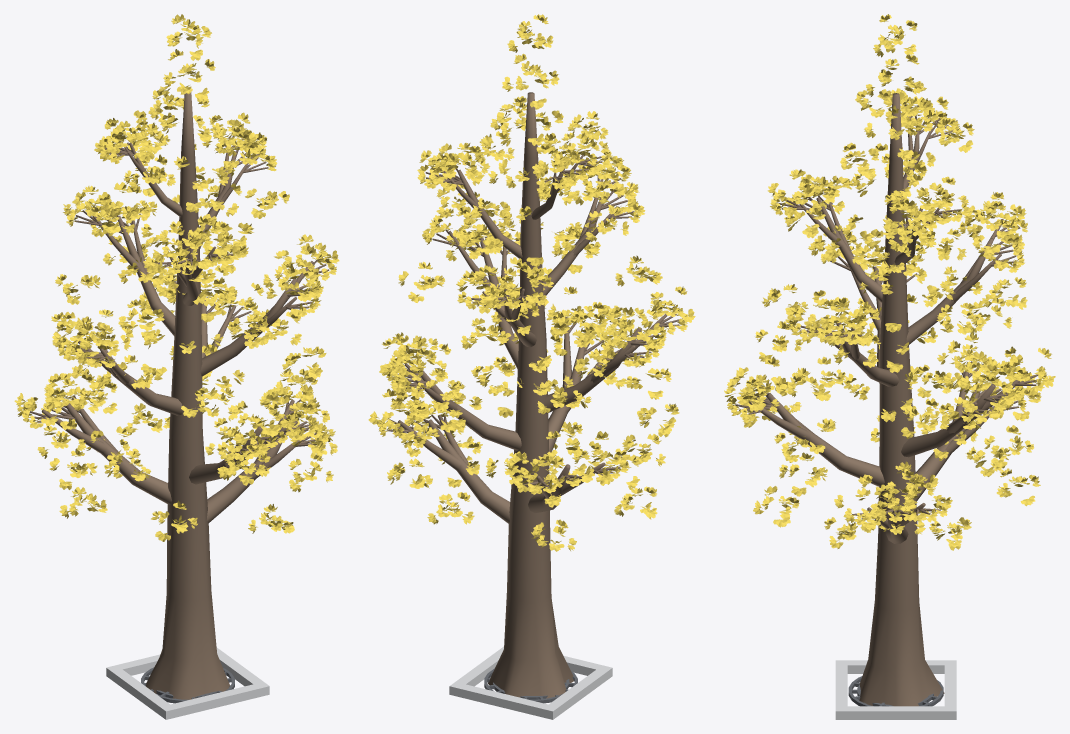
Rendered from street_tree.glb.
3 renders of one model, left to right at view 1: azimuth 30°, elevation 25°; view 2: azimuth 150°, elevation 25°; view 3: azimuth 270°, elevation 25°, orthographic.
Parts seen in each view (by area): view 1: Tree_Foliage, Tree_Trunk, Tree_Guard; view 2: Tree_Foliage, Tree_Trunk, Tree_Guard; view 3: Tree_Foliage, Tree_Trunk, Tree_Guard.
Part boxes in pixels (<box>): Tree_Foliage: <box>14,14,339,541</box>; Tree_Trunk: <box>29,92,328,699</box>; Tree_Guard: <box>106,647,269,719</box>; Tree_Foliage: <box>368,14,695,551</box>; Tree_Trunk: <box>387,92,679,698</box>; Tree_Guard: <box>449,646,612,719</box>; Tree_Foliage: <box>724,14,1055,550</box>; Tree_Trunk: <box>735,93,1038,706</box>; Tree_Guard: <box>835,660,956,719</box>.
Size of the model in its own units: 3.74 by 8.66 by 3.84.
